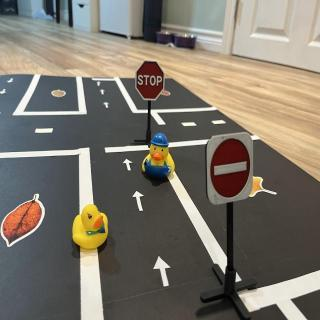duck_regular: (72, 205, 110, 251)
duck_specialty: (142, 133, 176, 181)
road_oneway: (154, 255, 173, 291), (133, 188, 147, 217), (123, 159, 135, 175), (102, 100, 112, 112), (7, 77, 15, 86), (1, 90, 10, 96), (100, 89, 106, 97), (97, 82, 102, 88)
sign_noentry: (208, 132, 253, 206)
sign_stop: (138, 62, 166, 99)
